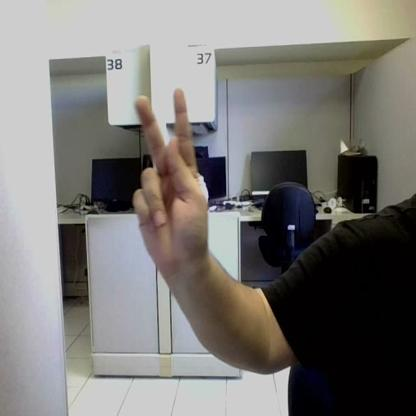K: (132, 88, 207, 272)
